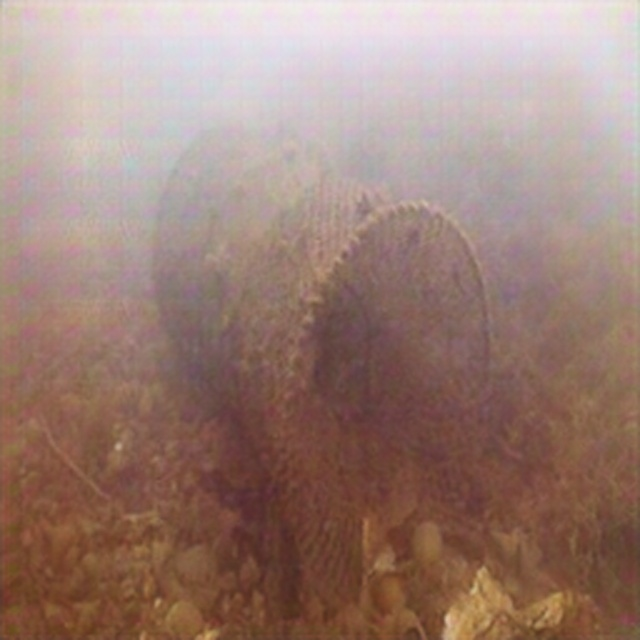mine: (152, 118, 492, 618)
